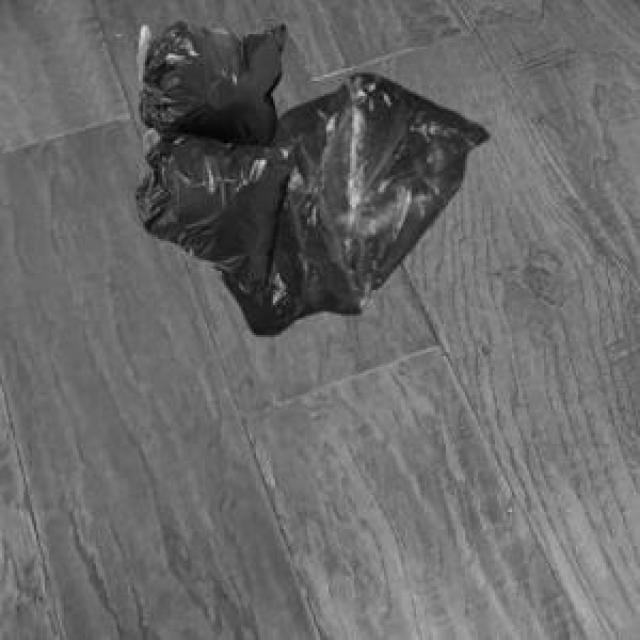miscellaneous trash: (130, 17, 294, 299)
